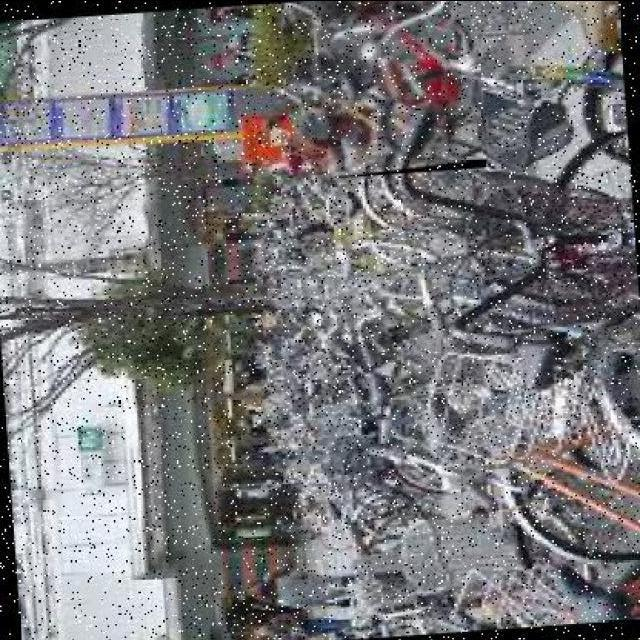bicycle: (281, 2, 492, 182)
